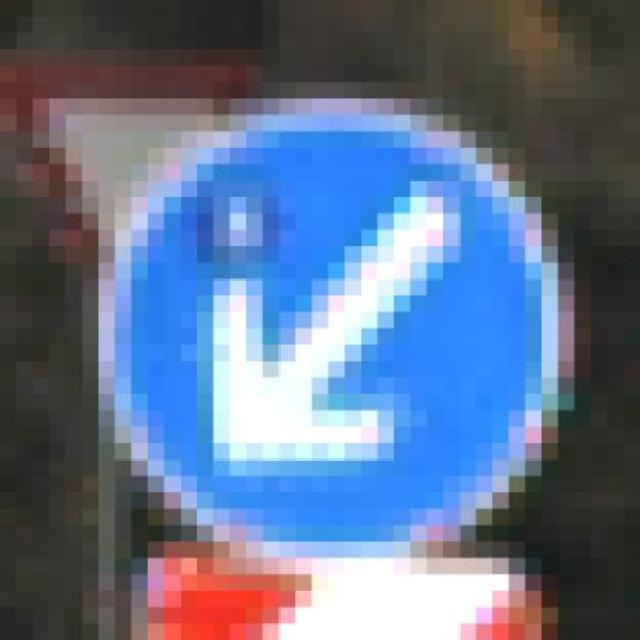Keep-Left: (49, 49, 608, 558)
